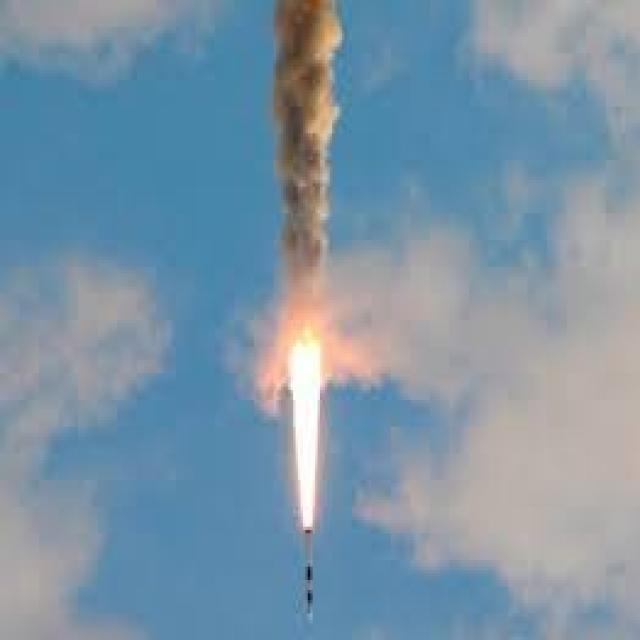missile: (302, 523, 318, 625)
